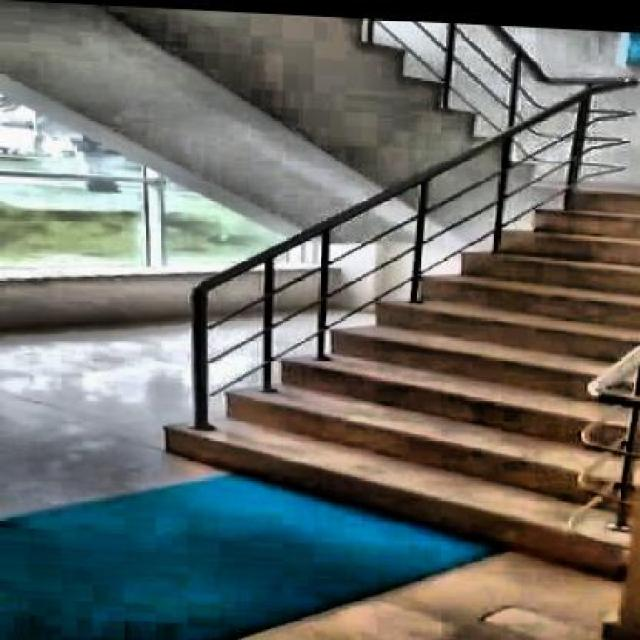stair: (151, 135, 638, 576)
